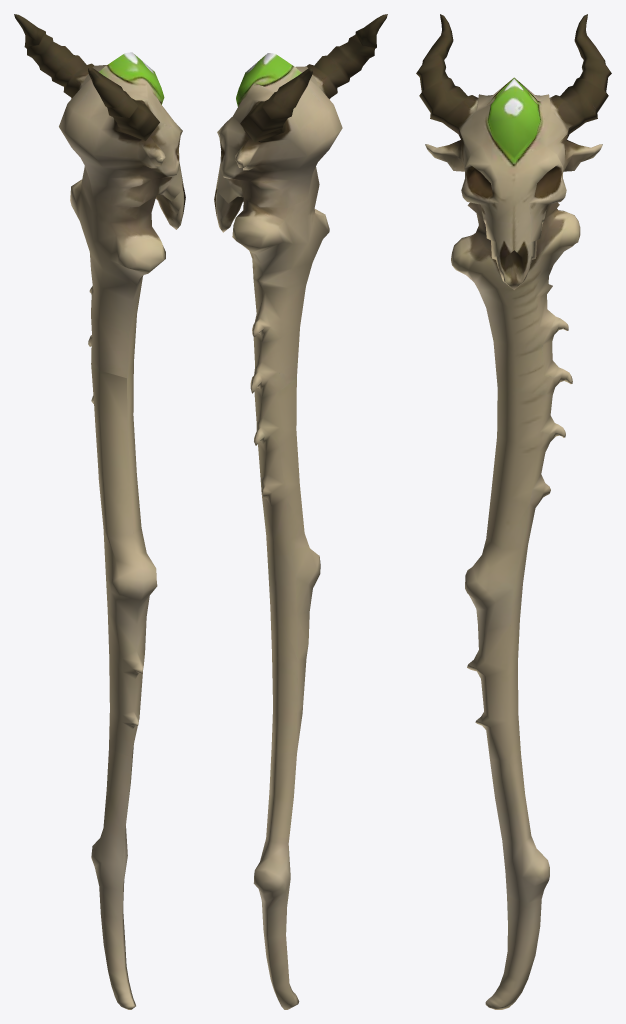
Rendered from staff_epic_gravewyrm_bone_emerald.glb.
3 views of the same model, side by side, from view 1: azimuth 30°, elevation 25°; view 2: azimuth 150°, elevation 25°; view 3: azimuth 270°, elevation 25° (orthographic). The views are drawn at different scales.
Visible parts, largest first — view 1: tripo_node_60245622-0235-4ac1-838a-e9104a93d3bc; view 2: tripo_node_60245622-0235-4ac1-838a-e9104a93d3bc; view 3: tripo_node_60245622-0235-4ac1-838a-e9104a93d3bc.
Part boxes in pixels (left/top/right/bottom): tripo_node_60245622-0235-4ac1-838a-e9104a93d3bc: left=14, top=14, right=185, bottom=1009; tripo_node_60245622-0235-4ac1-838a-e9104a93d3bc: left=214, top=14, right=387, bottom=1009; tripo_node_60245622-0235-4ac1-838a-e9104a93d3bc: left=416, top=14, right=611, bottom=1009.
Bounding box in the file's own units: 0.3219 × 2.28 × 0.4199.
Materials: 1 (1 with a texture image).
